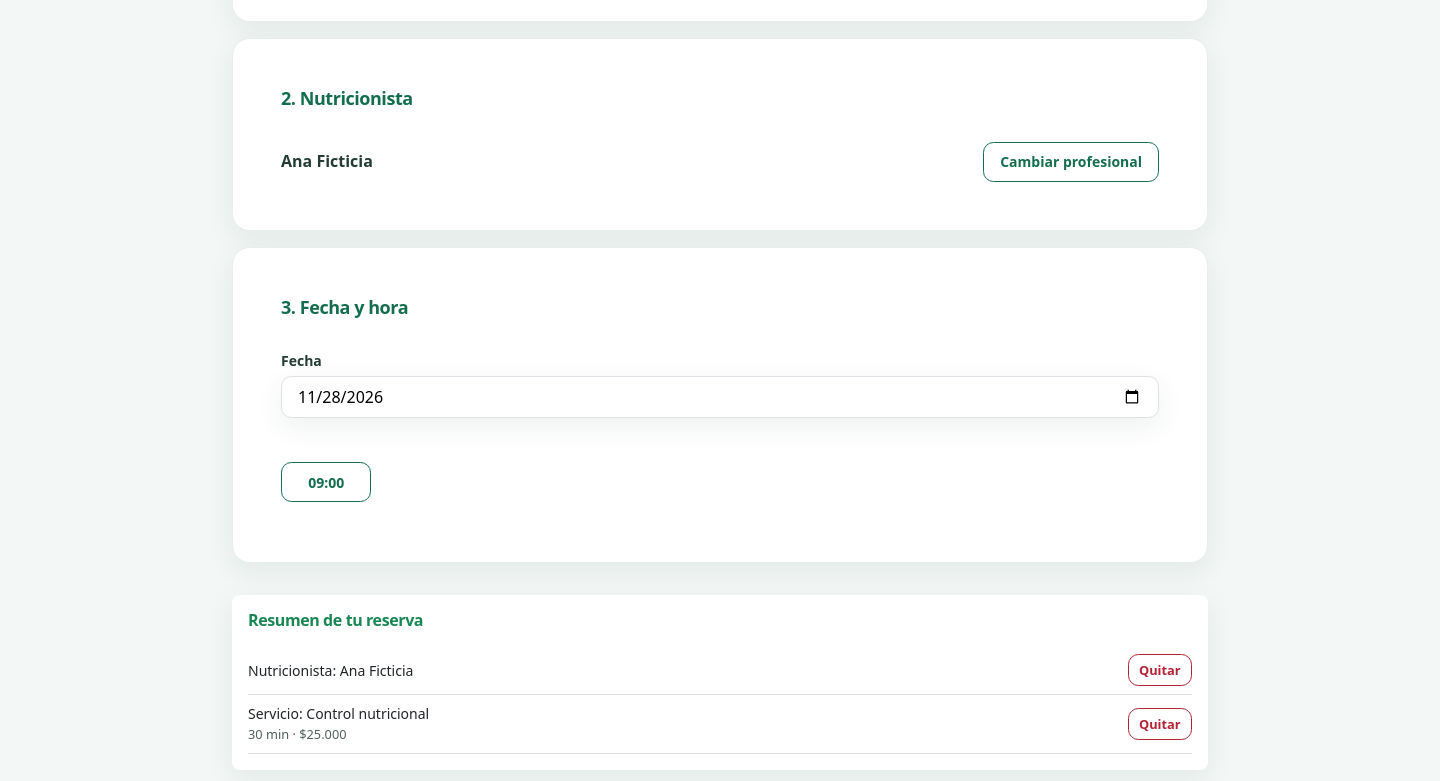
Test case: Solicitud de cita › muestra el conflicto cuando el horario fue tomado por otra persona
(page scrolled)
Click the button "09:00": point(326, 482) [281,462,371,502]
(page scrolled)
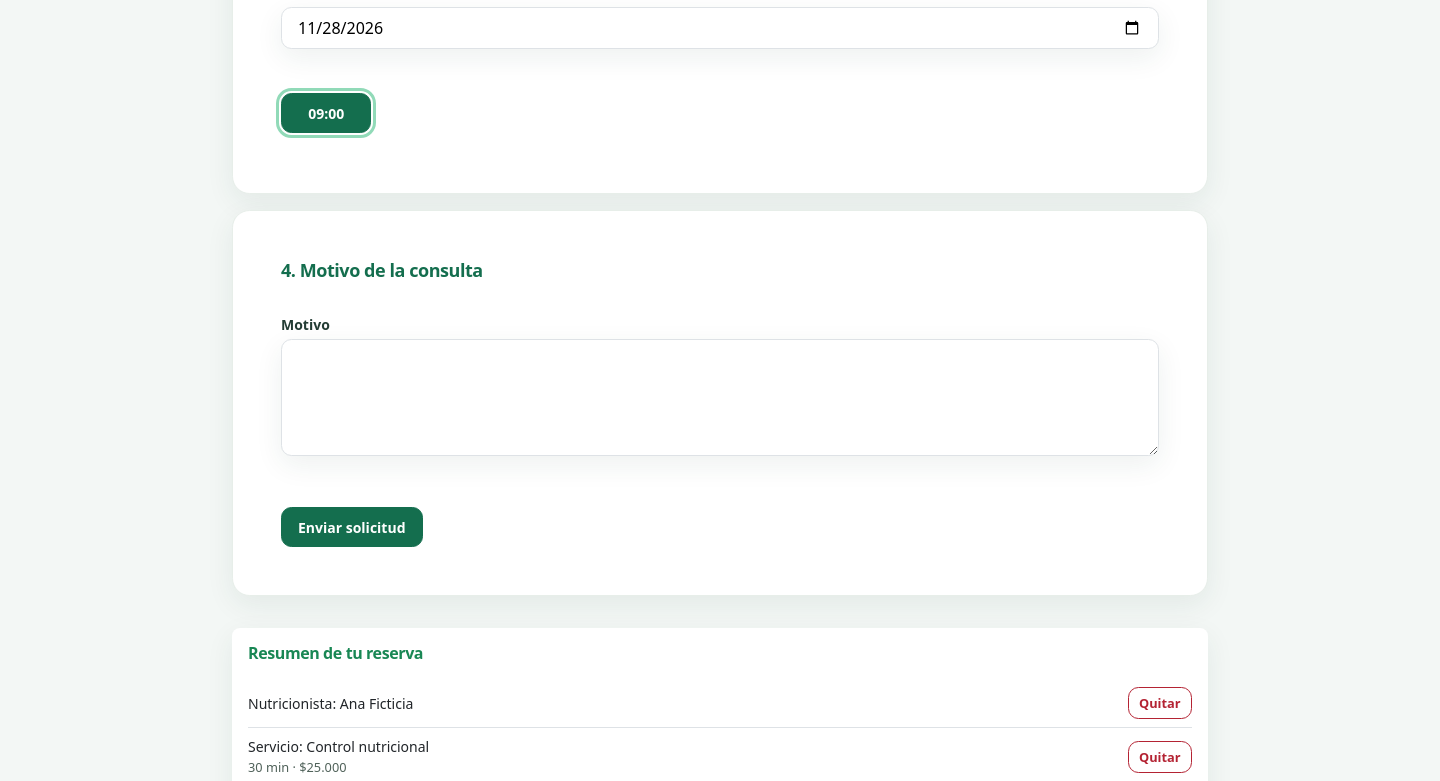
In the text box labelled "Motivo": point(720, 398) [281,339,1159,456], type "Control mensual"
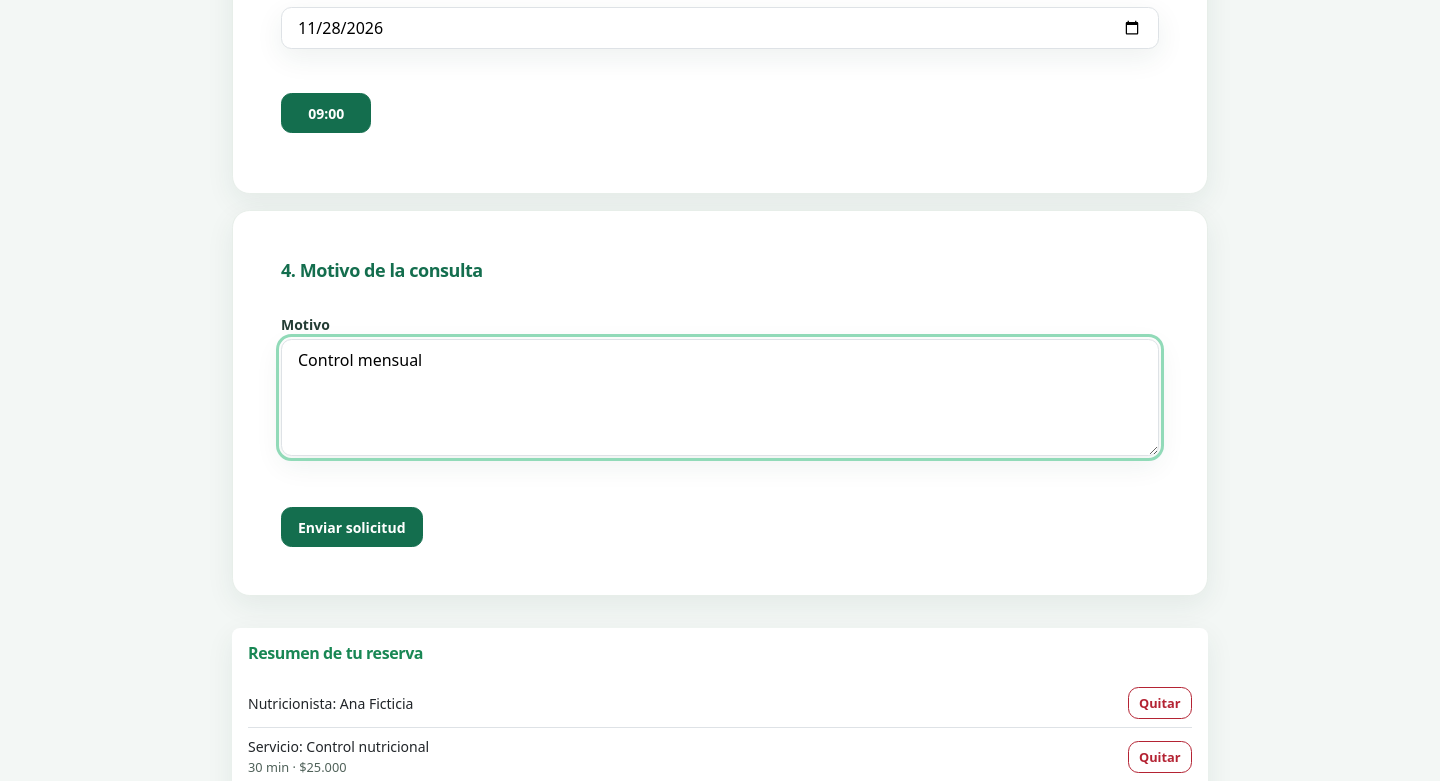
Click the button "Enviar solicitud": point(352, 527) [281,507,422,547]
(page scrolled)
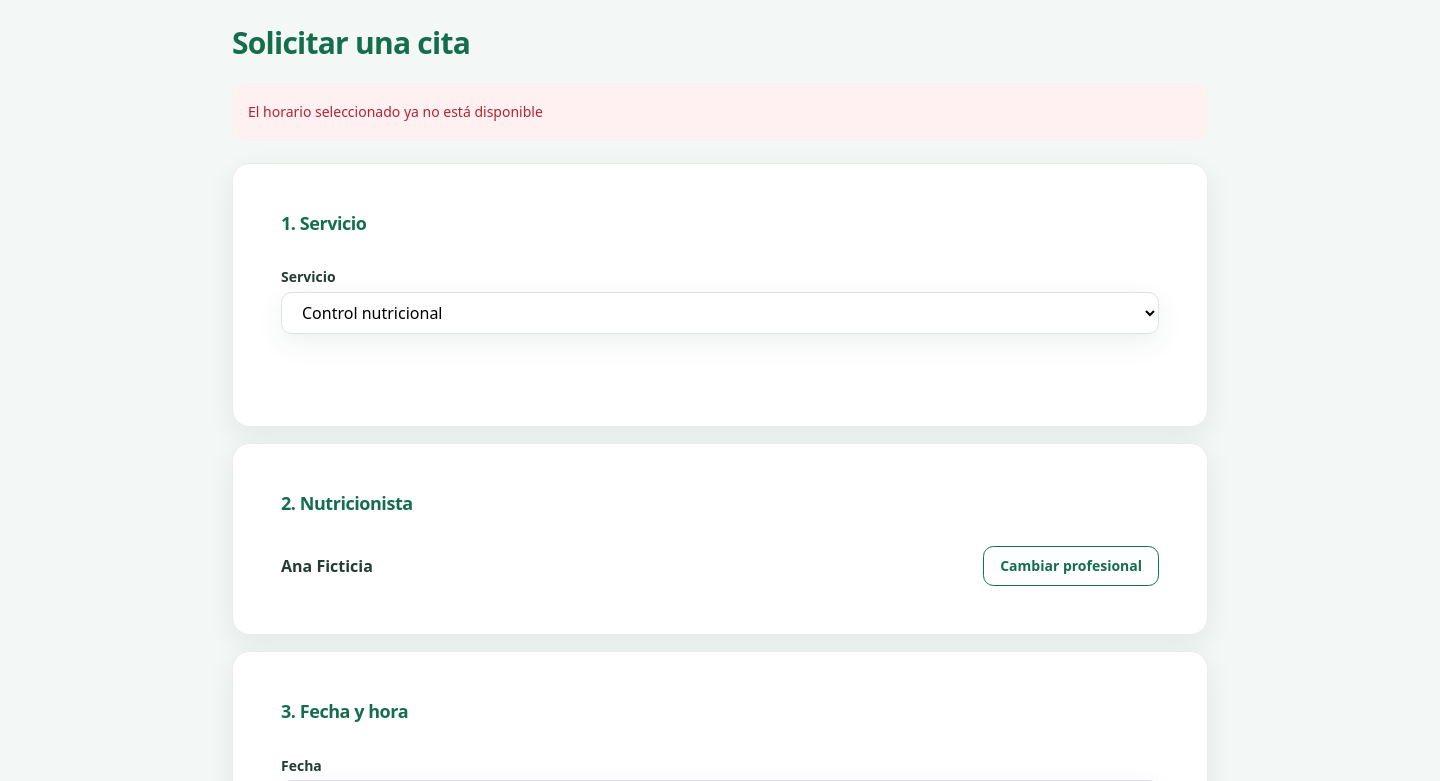
Result: the text "El horario seleccionado ya no está disponible" is shown at [232,85,1208,139]
